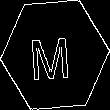M_N: (33, 28, 77, 82)
